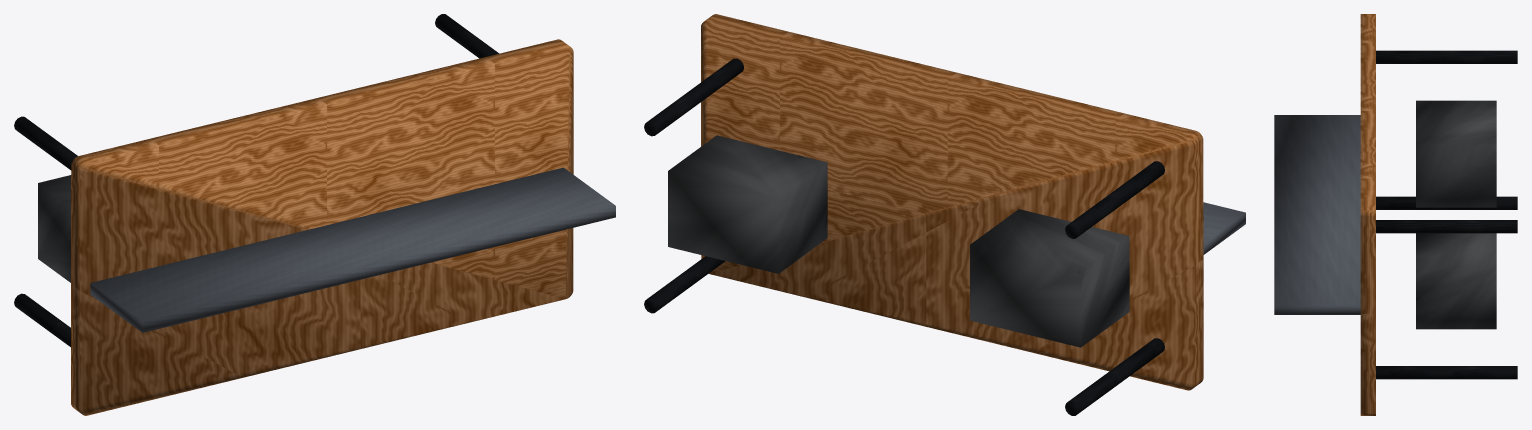
File: DESK_BENCH_2P_001.glb
3 views of the same model, side by side, from view 1: azimuth 30°, elevation 25°; view 2: azimuth 150°, elevation 25°; view 3: azimuth 270°, elevation 25° (orthographic). The views are drawn at different scales.
Parts seen in each view (by area): view 1: bench_top_000, middle_partition_001, under_cabinet_006, leg_003, leg_002, leg_005; view 2: bench_top_000, under_cabinet_007, under_cabinet_006, leg_005, leg_002, leg_003, middle_partition_001, leg_004; view 3: middle_partition_001, under_cabinet_006, under_cabinet_007, bench_top_000, leg_003, leg_004, leg_005, leg_002.
Part boxes in pixels (x1,y1,x2,y2): bench_top_000: (71,39,573,415); middle_partition_001: (90,167,615,332); under_cabinet_006: (38,175,70,282); leg_003: (14,116,77,170); leg_002: (14,293,70,346); leg_005: (435,14,498,58); bench_top_000: (701,14,1203,390); under_cabinet_007: (668,135,827,273); under_cabinet_006: (970,209,1129,347); leg_005: (644,58,743,136); leg_002: (1065,338,1164,415); leg_003: (1065,161,1164,238); middle_partition_001: (1203,202,1245,254); leg_004: (644,256,725,313); middle_partition_001: (1274,115,1360,314); under_cabinet_006: (1416,100,1496,207); under_cabinet_007: (1416,233,1496,329); bench_top_000: (1360,14,1375,415); leg_003: (1376,50,1517,63); leg_004: (1376,366,1517,379); leg_005: (1376,220,1517,233); leg_002: (1376,196,1517,209).
Bounding box in the file's own units: 2.45 × 1.2 × 1.27.
Materials: 4 (4 with a texture image).
